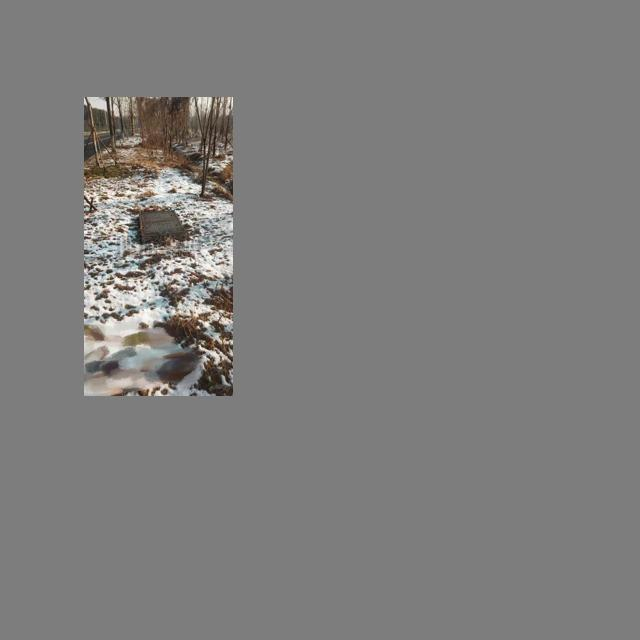circle: (136, 209, 189, 246)
